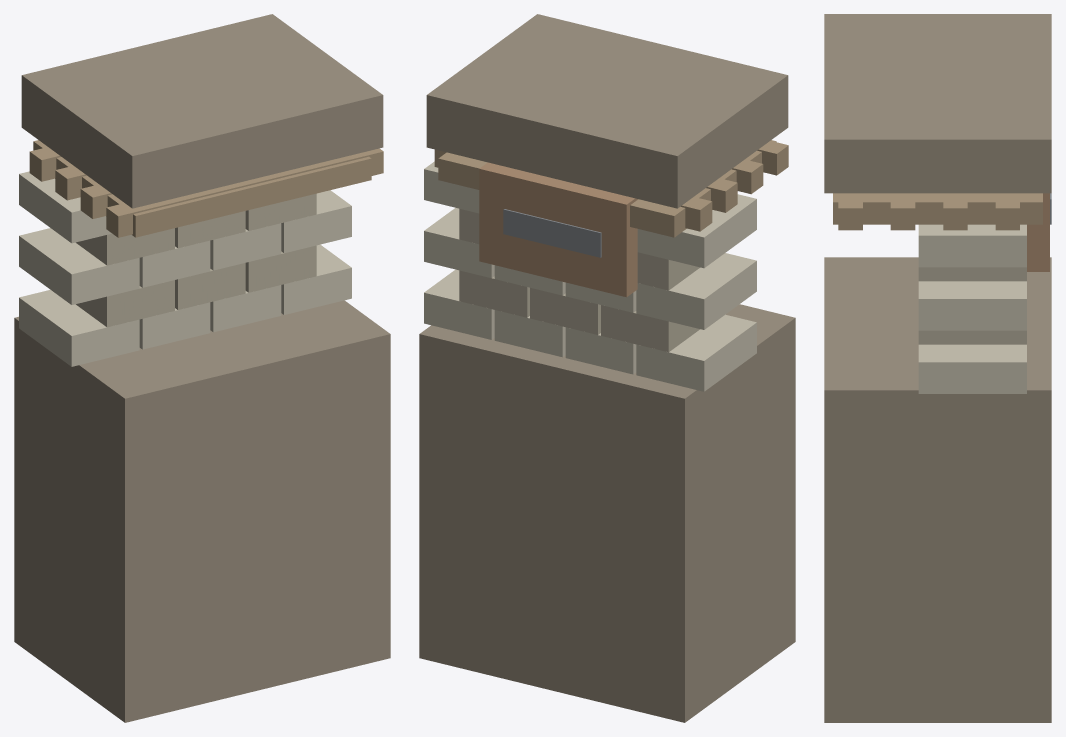
Rendered from trench-line-1917-observation-loophole-b76df664__24077.glb.
3 renders of one model, left to right at view 1: azimuth 30°, elevation 25°; view 2: azimuth 150°, elevation 25°; view 3: azimuth 270°, elevation 25°, orthographic. The views are drawn at different scales.
Visible parts, largest first — view 1: observation-loophole; view 2: observation-loophole; view 3: observation-loophole.
Boxes of the visible parts, box(x1,y1,x2,y2) form: observation-loophole: box(14, 14, 390, 722); observation-loophole: box(419, 14, 795, 722); observation-loophole: box(824, 14, 1051, 722).
Bounding box in the file's own units: 1.9 × 3.66 × 1.3.
